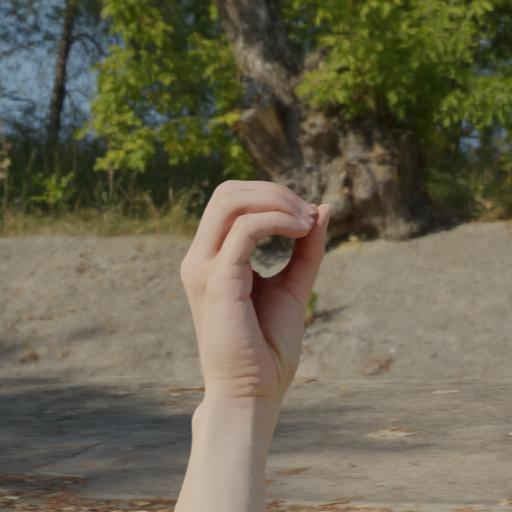O: (143, 151, 355, 425)
